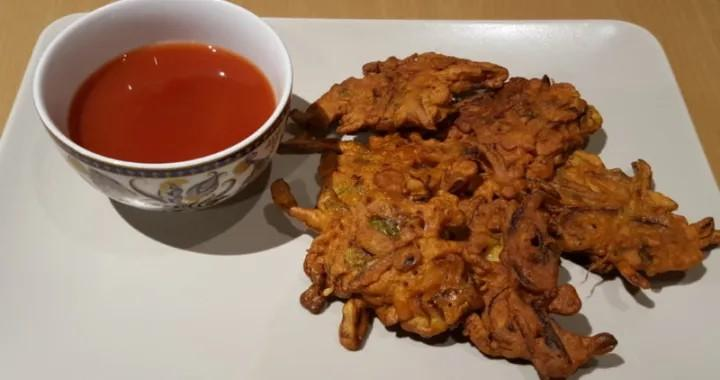OnionPakoda: (271, 41, 720, 380)
